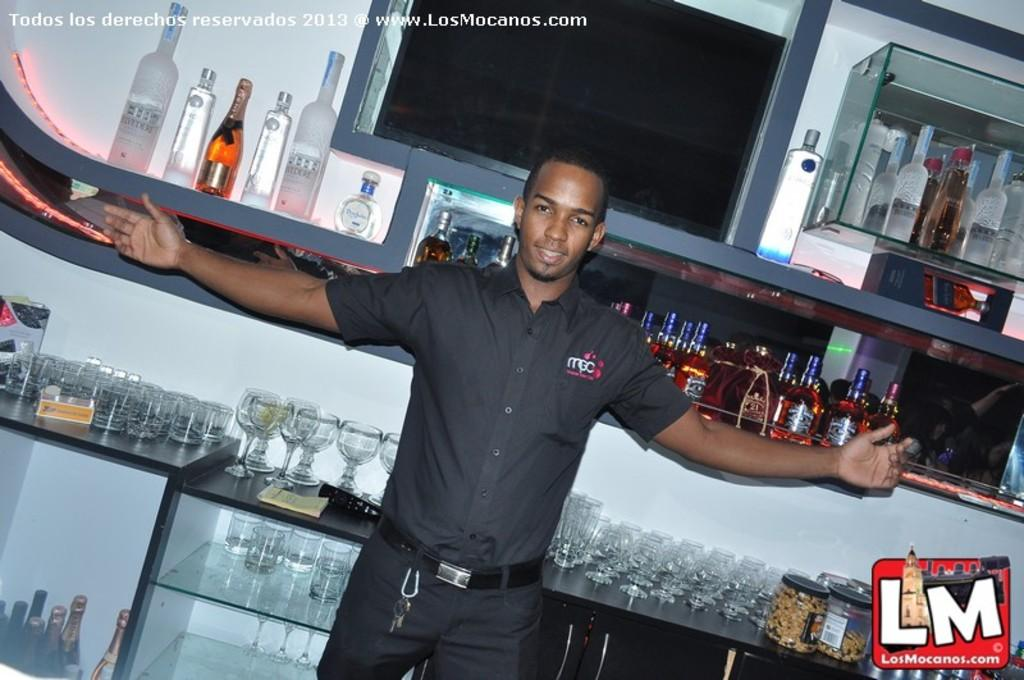no_helmet: (496, 199, 655, 271)
